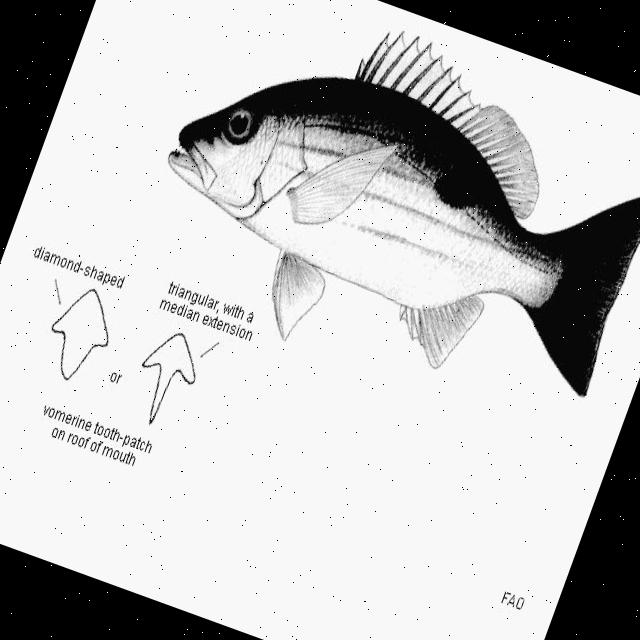ikan: (121, 0, 640, 446)
